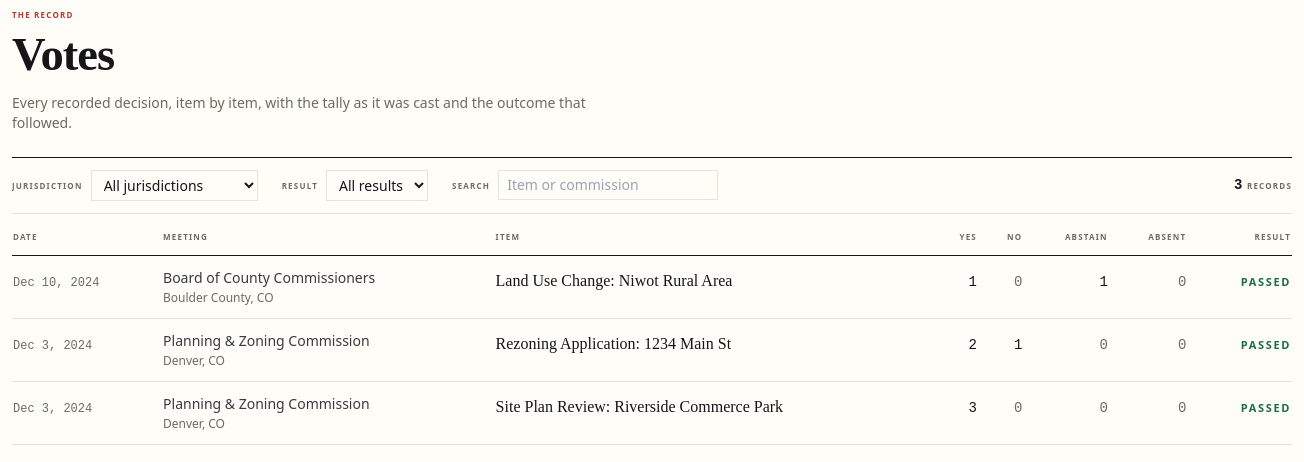
Test case: VotesPage › filters by jurisdiction
The image size is (1304, 462).
The fixture ids are UUIDs, so select by the visible label instead.
Select "Boulder County, CO" in the dropdown labelled "Jurisdiction" at (174, 185), box [91,170,258,201]
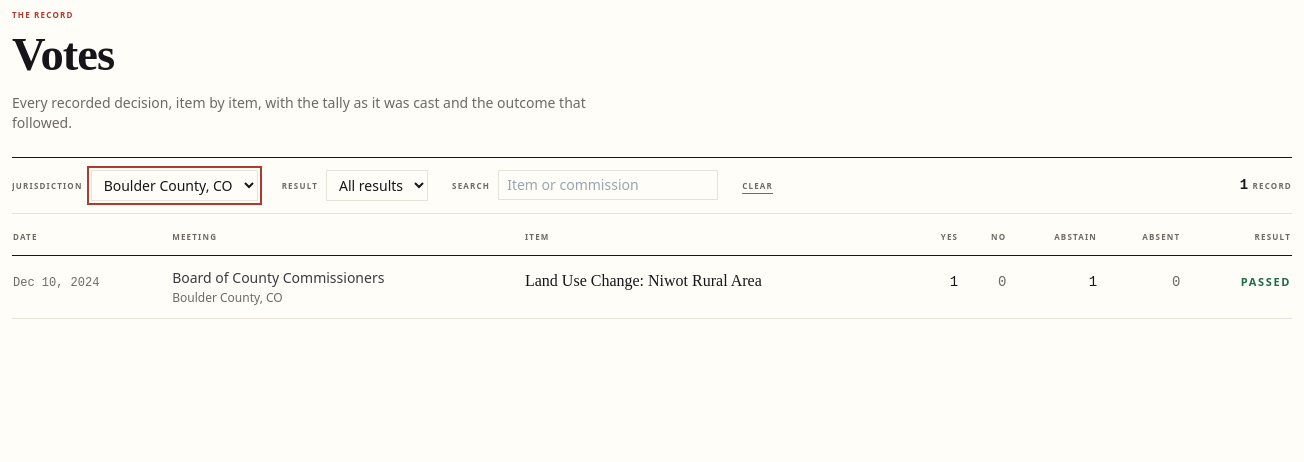
Expected: the button "Land Use Change: Niwot Rural Area" is shown, [525,270,762,292]
Result: the button "Rezoning Application: 1234 Main St" is gone
